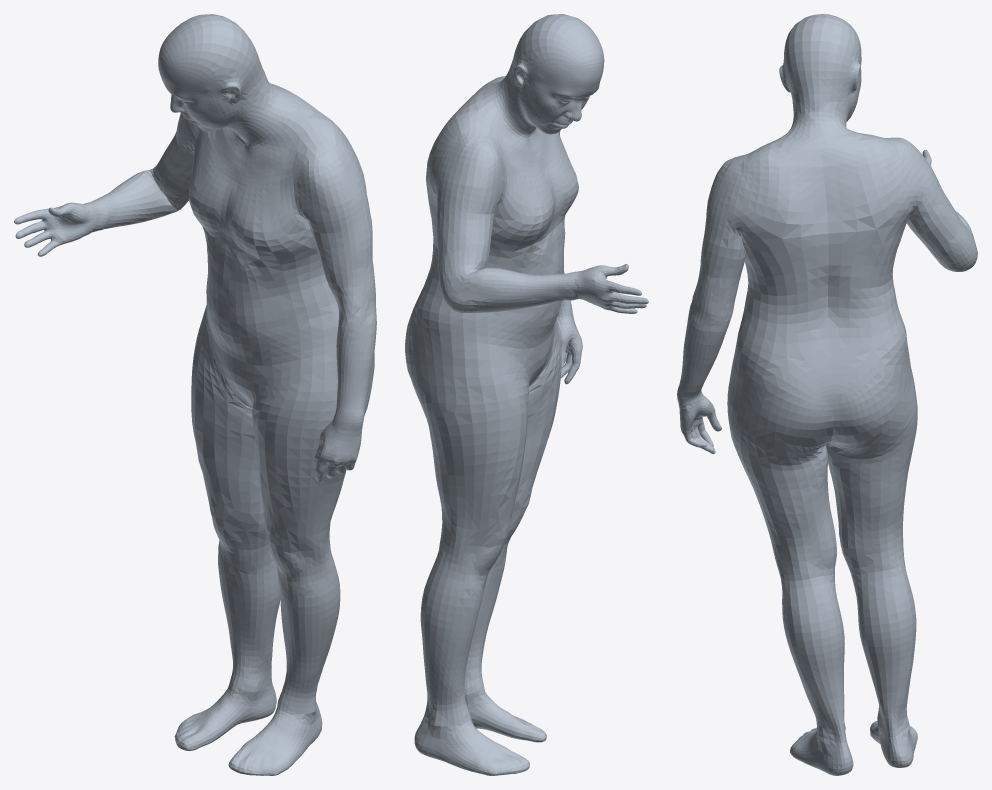
Rendered from body-person-1.glb.
3 views of the same model, side by side, from view 1: azimuth 30°, elevation 25°; view 2: azimuth 150°, elevation 25°; view 3: azimuth 270°, elevation 25° (orthographic). The views are drawn at different scales.
Parts seen in each view (by area): view 1: person_01; view 2: person_01; view 3: person_01.
Part boxes in pixels (<box>): person_01: <box>14,14,376,775</box>; person_01: <box>405,14,648,775</box>; person_01: <box>677,14,977,775</box>.
Bounding box in the file's own units: 0.6371 × 1.6 × 0.6112.
